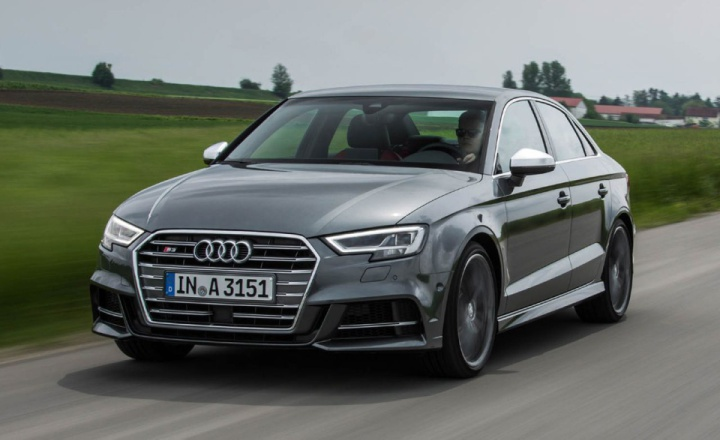audi: (184, 238, 260, 264)
